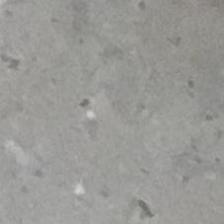Non_Crack: (26, 35, 213, 224)
